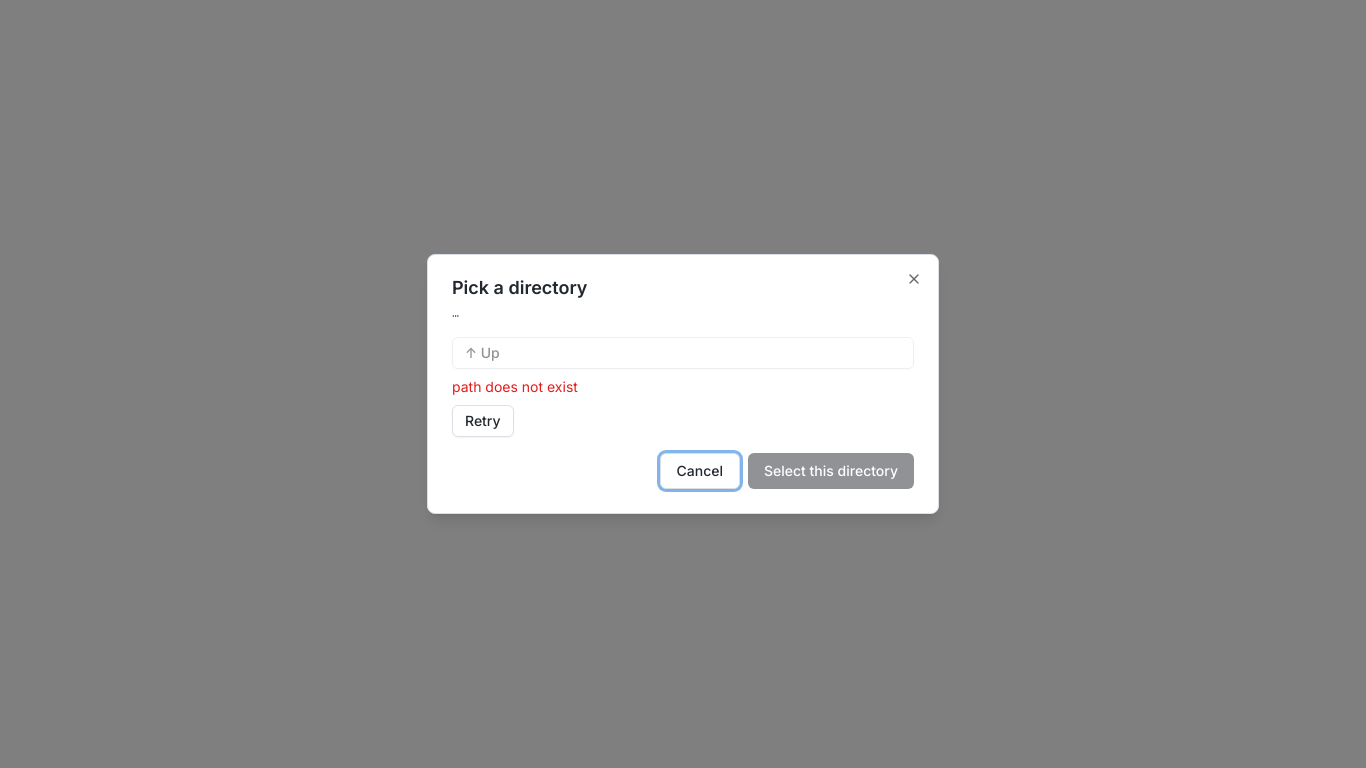
Test: DirectoryBrowserDialog › shows an inline error and re-navigates on Retry
Expected: the text "path does not exist" is shown, [452,377,578,397]
Click the button "Retry" at x=483, y=421, box [452,405,514,437]
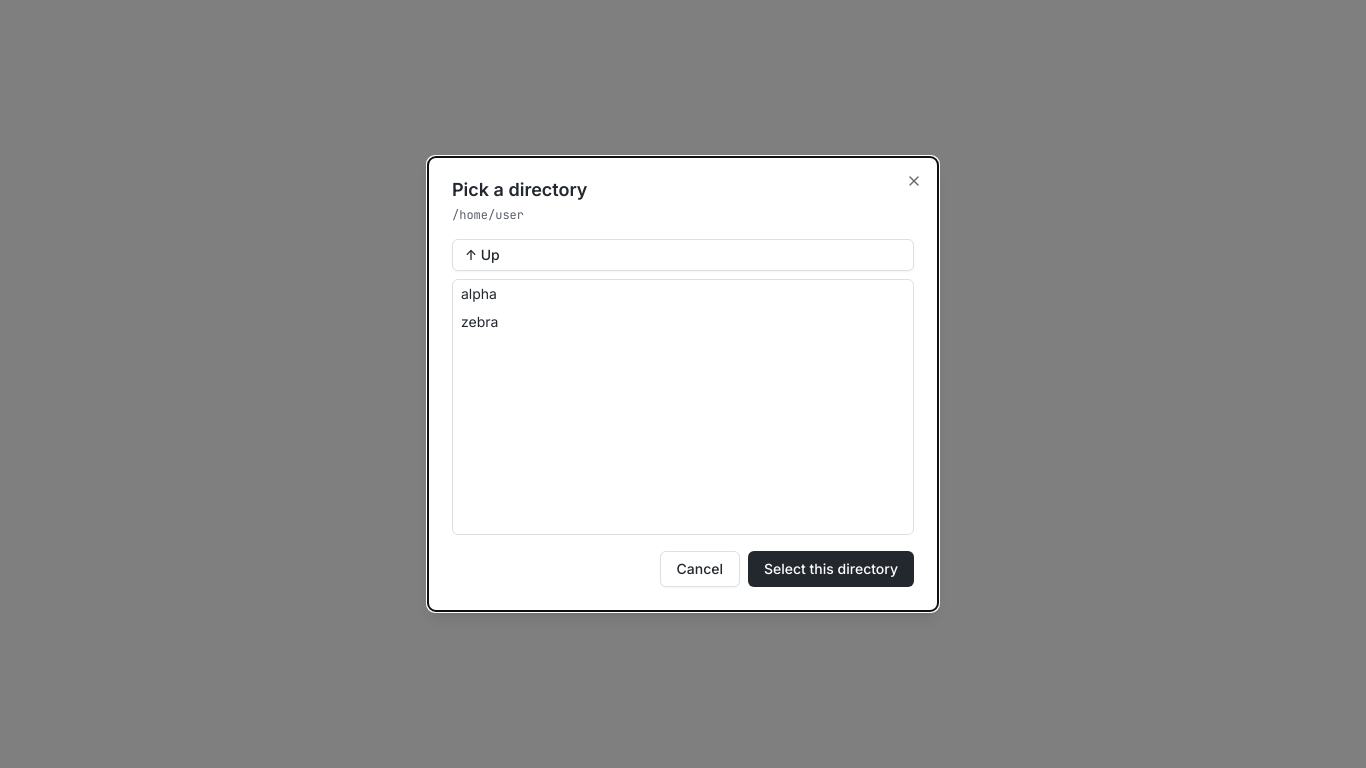
Expected: the button "alpha" is shown, [453,280,913,308]
